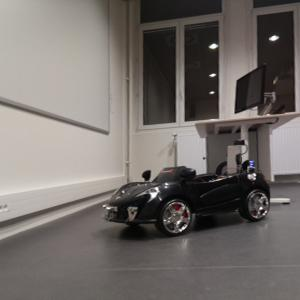big: (98, 160, 274, 235)
